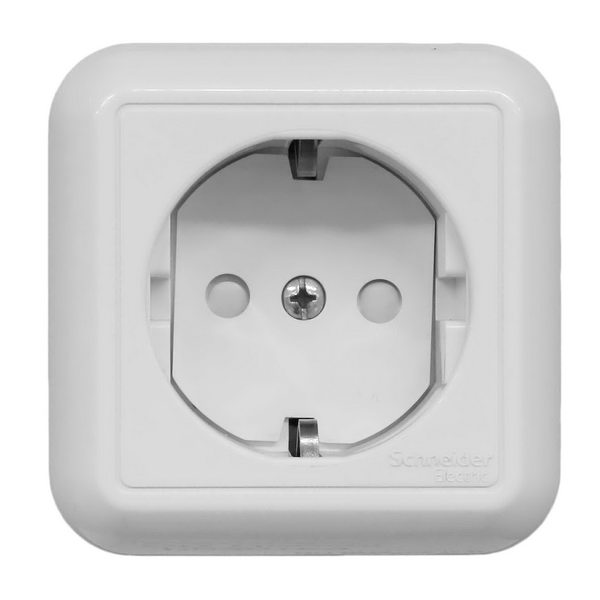raccoon: (141, 134, 477, 474)
